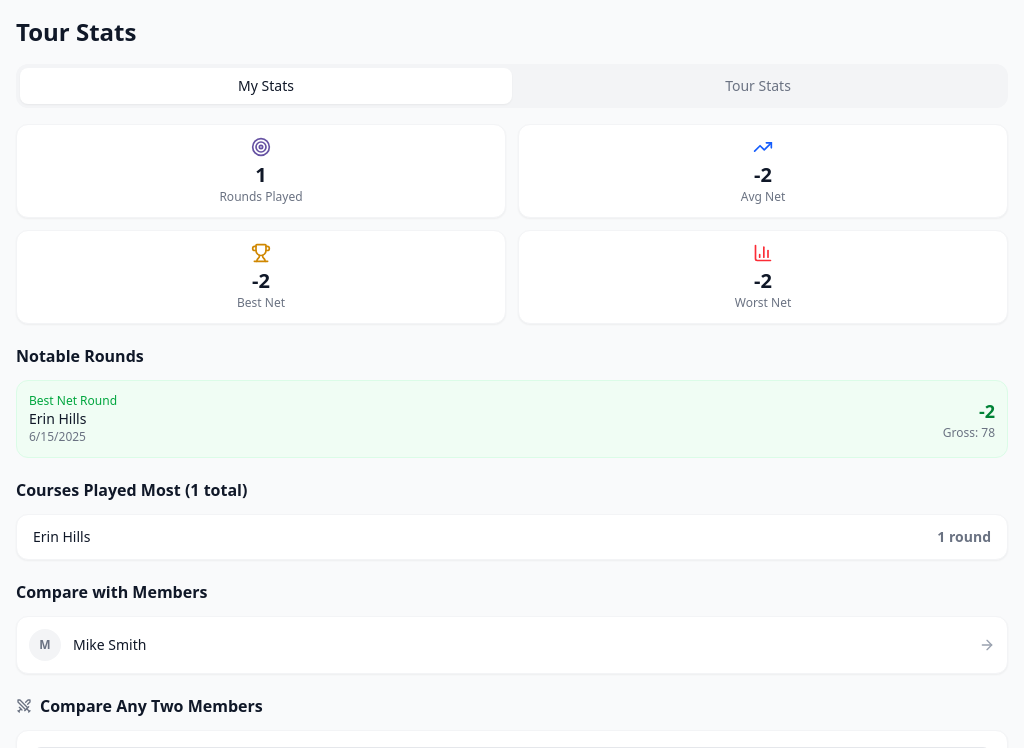
Test: Stats Page Tab Navigation › switches to Tour Stats tab when clicked
Click the button "Tour Stats": (758,86) [512,68,1004,104]
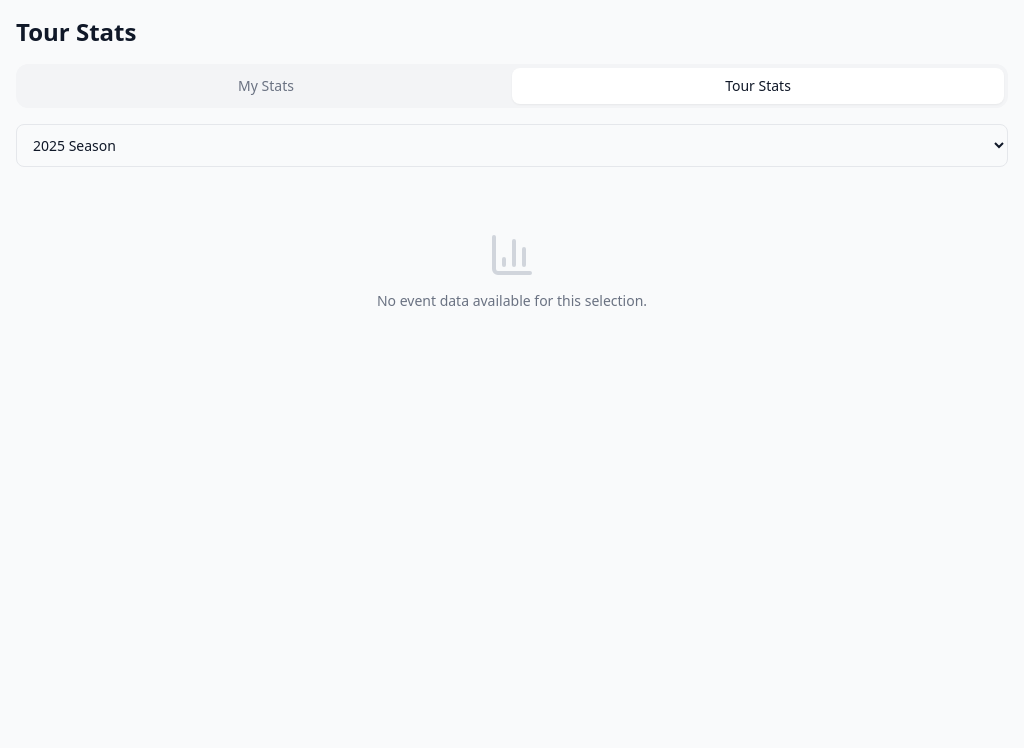
Expected: the heading "Notable Rounds" is gone
